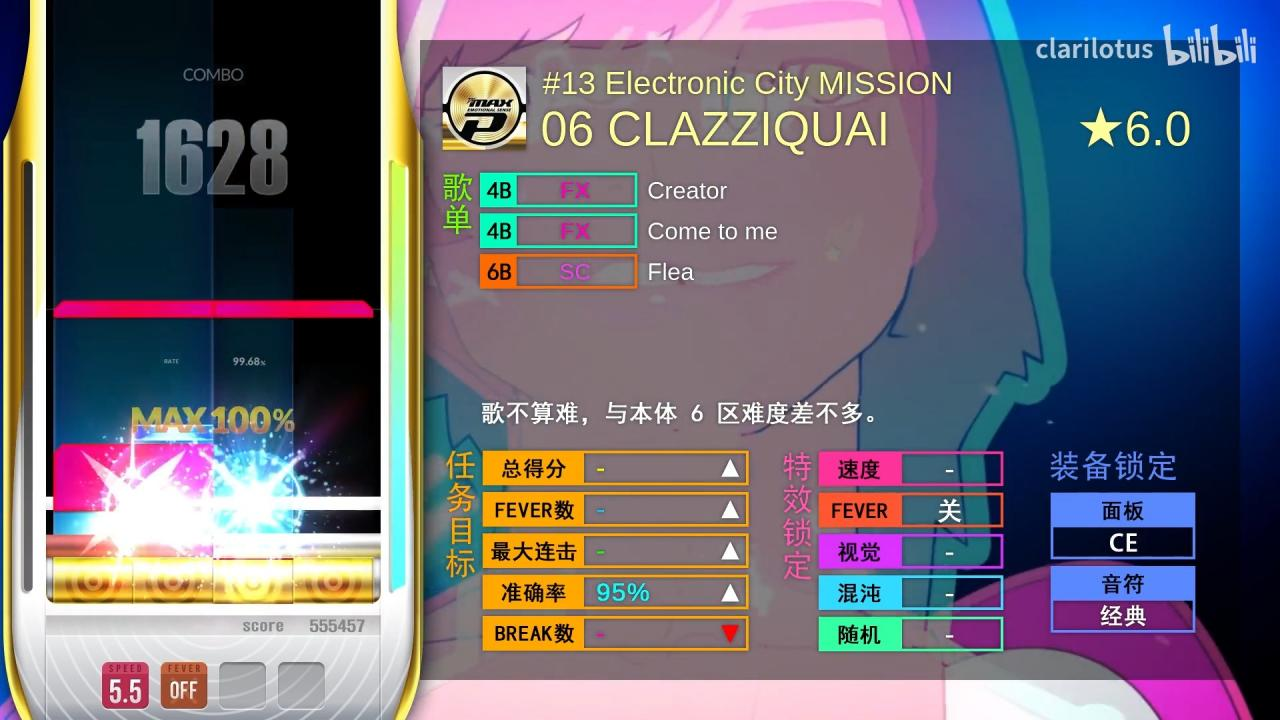xend: (54, 443, 214, 464)
xnote: (213, 300, 374, 318), (54, 300, 213, 318)
